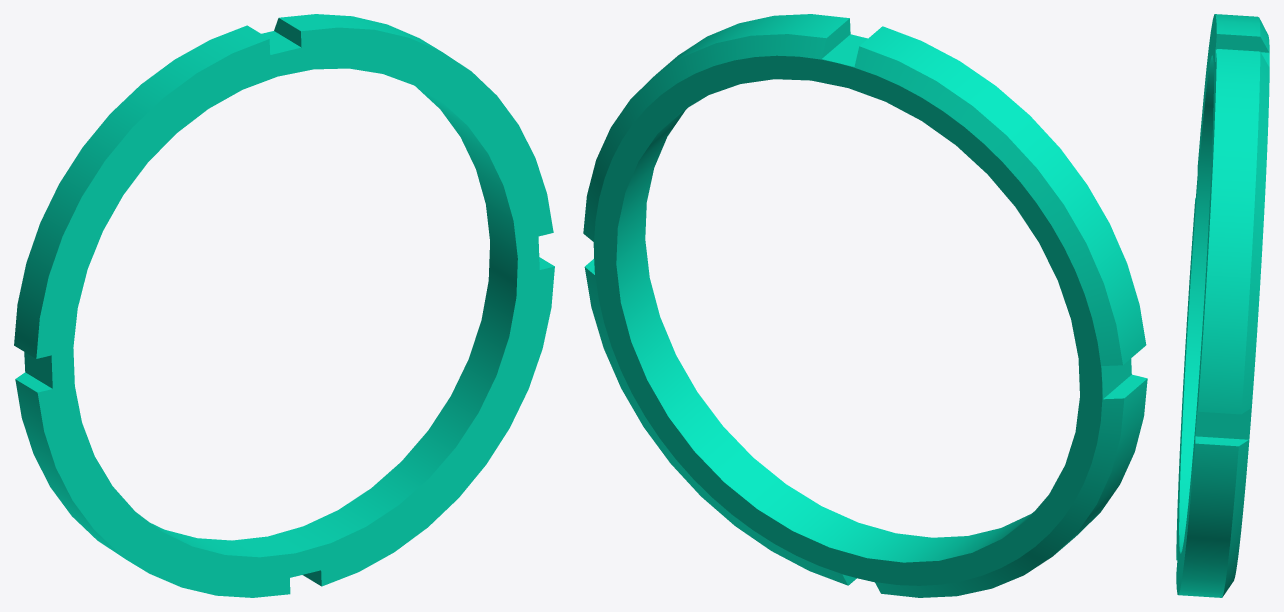
3 views of the same model, side by side, from view 1: azimuth 30°, elevation 25°; view 2: azimuth 150°, elevation 25°; view 3: azimuth 270°, elevation 25° (orthographic). The views are drawn at different scales.
Parts seen in each view (by area): view 1: 0C6E641F3DC18749666DF3C59C03E7384C05AFCA|:|443EE3A40CCF_ae68; view 2: 0C6E641F3DC18749666DF3C59C03E7384C05AFCA|:|443EE3A40CCF_ae68; view 3: 0C6E641F3DC18749666DF3C59C03E7384C05AFCA|:|443EE3A40CCF_ae68.
Boxes of the visible parts, x1,y1,x2,y2 form: 0C6E641F3DC18749666DF3C59C03E7384C05AFCA|:|443EE3A40CCF_ae68: [14, 14, 554, 597]; 0C6E641F3DC18749666DF3C59C03E7384C05AFCA|:|443EE3A40CCF_ae68: [583, 14, 1147, 597]; 0C6E641F3DC18749666DF3C59C03E7384C05AFCA|:|443EE3A40CCF_ae68: [1176, 14, 1269, 597].
Bounding box in the file's own units: 82.65 × 82.88 × 13.28.
